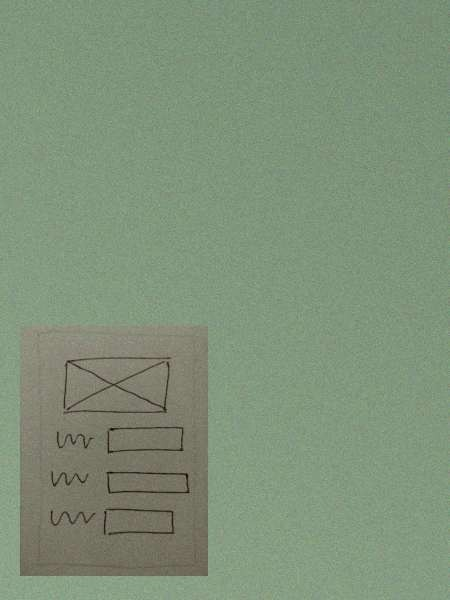image: (58, 354, 174, 417)
text: (50, 428, 100, 454), (44, 507, 97, 531), (48, 467, 95, 491)
text_input: (100, 506, 180, 542), (103, 423, 187, 454), (104, 468, 192, 497)
